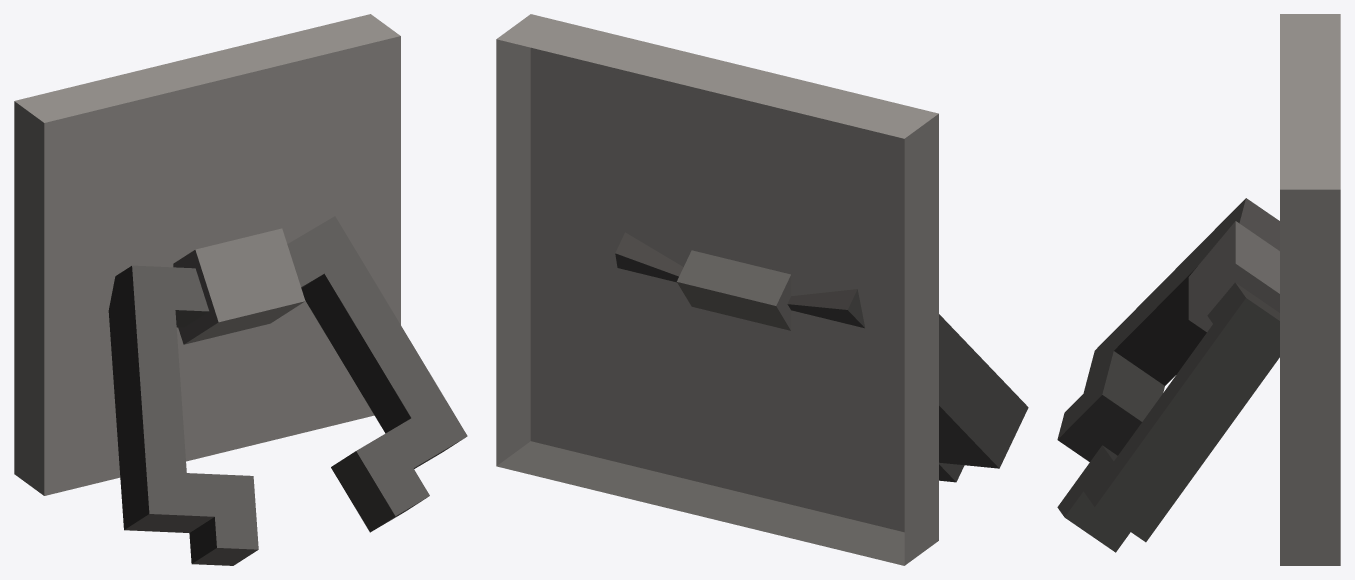
File: SD_Prop_WallCuffs_01.fbx
3 views of the same model, side by side, from view 1: azimuth 30°, elevation 25°; view 2: azimuth 150°, elevation 25°; view 3: azimuth 270°, elevation 25° (orthographic). The views are drawn at different scales.
Parts seen in each view (by area): view 1: SD_Prop_WallCuffs_01; view 2: SD_Prop_WallCuffs_01; view 3: SD_Prop_WallCuffs_01.
Part boxes in pixels (x1,y1,x2,y2): SD_Prop_WallCuffs_01: (14,14,467,565); SD_Prop_WallCuffs_01: (496,14,1028,565); SD_Prop_WallCuffs_01: (1057,14,1340,565).
Bounding box in the file's own units: 0.7836 × 0.8533 × 0.5344.
